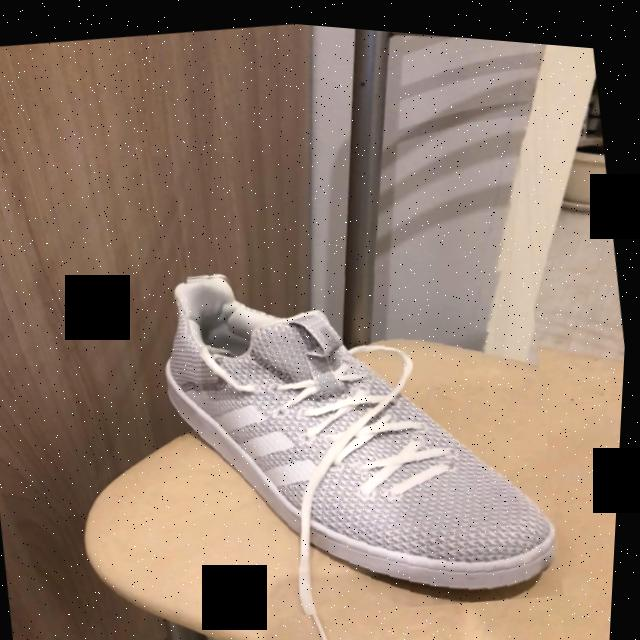shoe: (168, 273, 563, 609)
